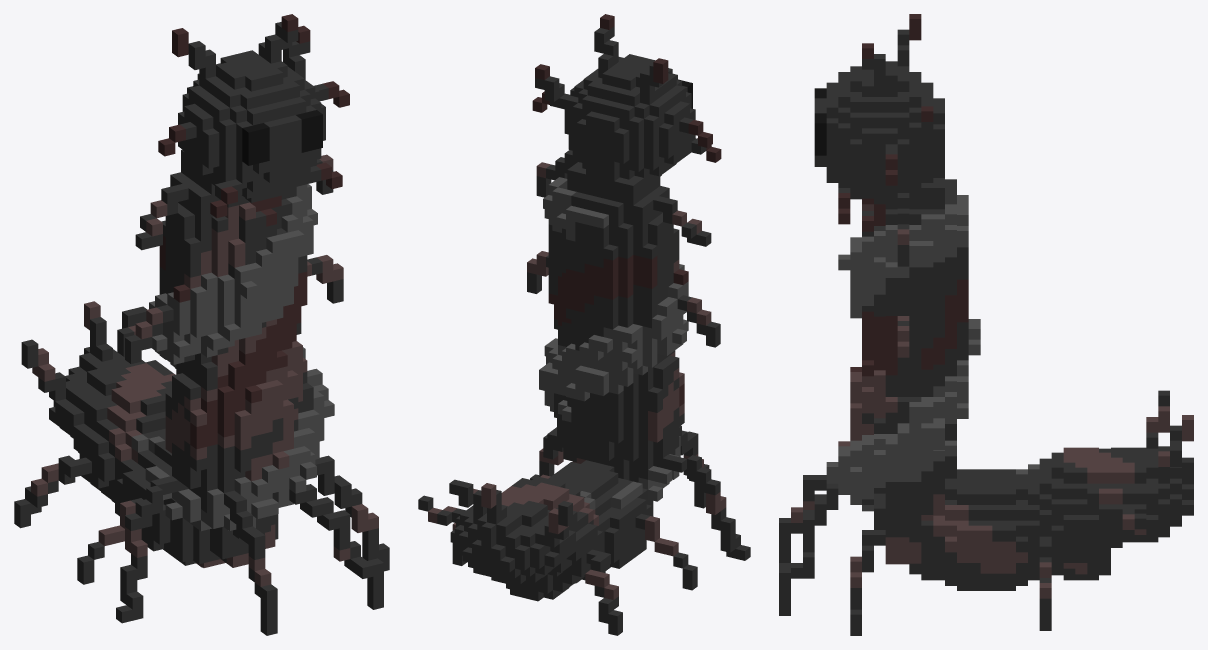
The model's file is Acidos_grasos.obj.
The picture shows the model from 3 angles, left to right: view 1: azimuth 30°, elevation 25°; view 2: azimuth 150°, elevation 25°; view 3: azimuth 270°, elevation 25°; orthographic projection. The views are drawn at different scales.
Size of the model in its own units: 2.4 by 5.1 by 3.5.
1 material, 1 textured.
